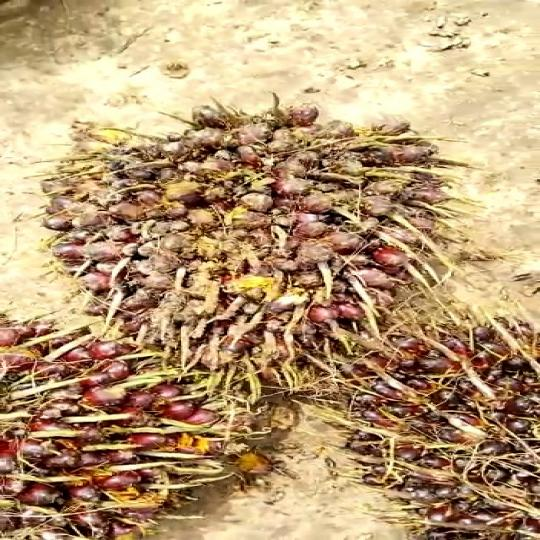kurang masak: (10, 96, 508, 382), (0, 329, 282, 539), (322, 316, 540, 540)
